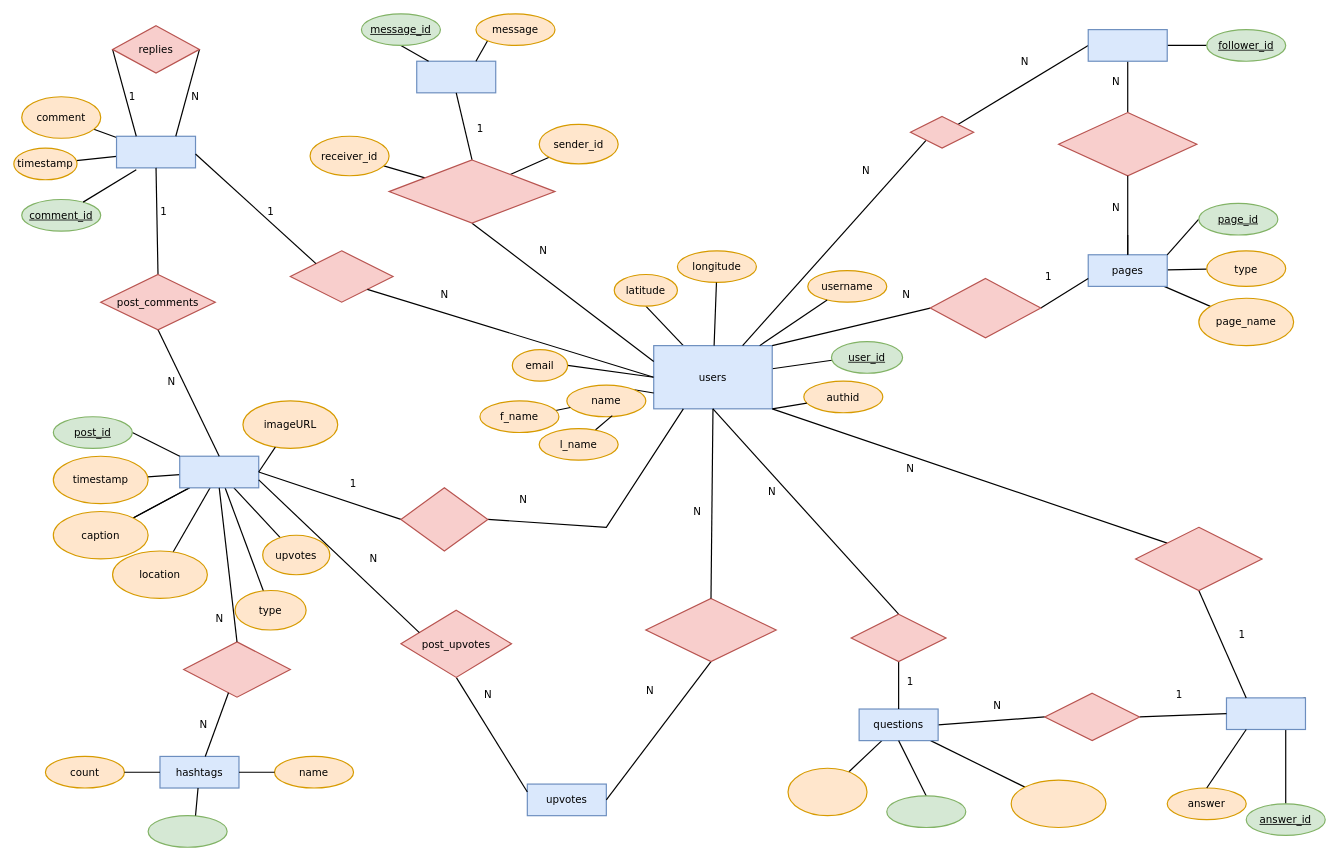
This 1340x868 diagram has some shape labels left out. The centre of each missing label's shape, as x and y in pixels:
answers: the point at 1266,713
can_create: the point at 985,308
can_give_answers: the point at 1198,558
can_have: the point at 1092,716
can_have_followers: the point at 1127,144
can_rise: the point at 898,637
category: the point at 827,791
comment_user: the point at 341,276
comments: the point at 156,151
followers: the point at 1127,45
has: the point at 942,132
hashtag_id: the point at 187,831
messages: the point at 456,76
post_hashtags: the point at 237,669
posts: the point at 219,471
question: the point at 1058,803
question_id: the point at 926,811
sends_receives_messages: the point at 471,191
user_upvotes_post: the point at 710,629
users_post: the point at 444,519
